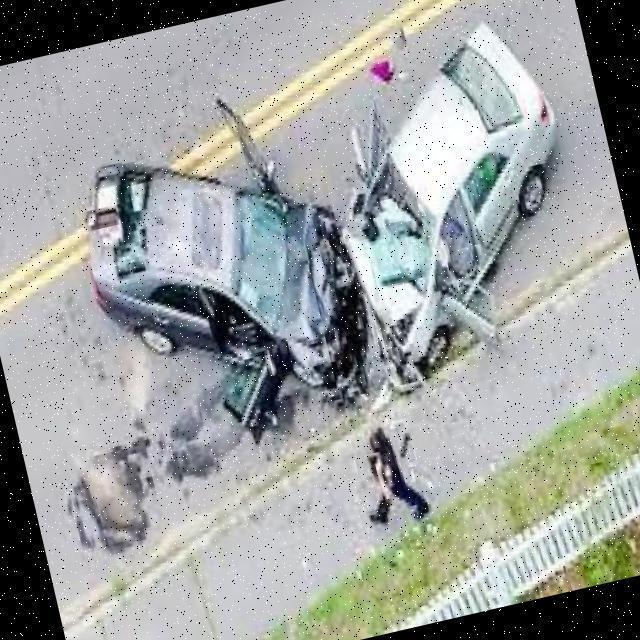accident: (55, 8, 613, 460)
